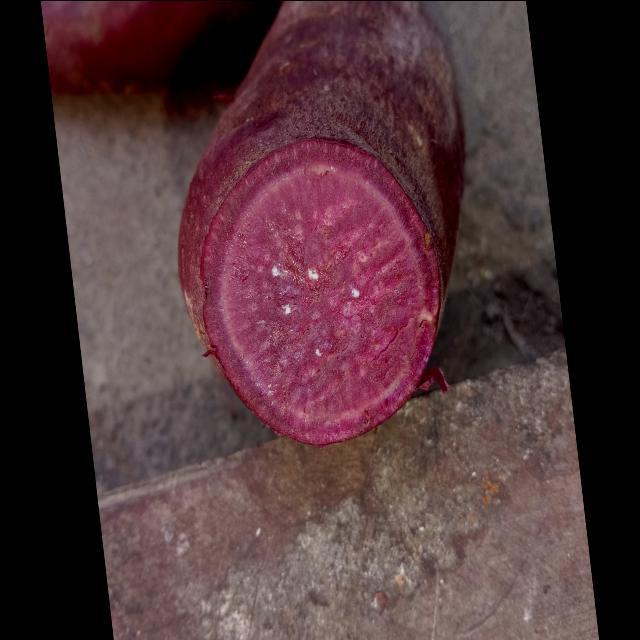Healthy Sweet Potato: (202, 138, 440, 445)
